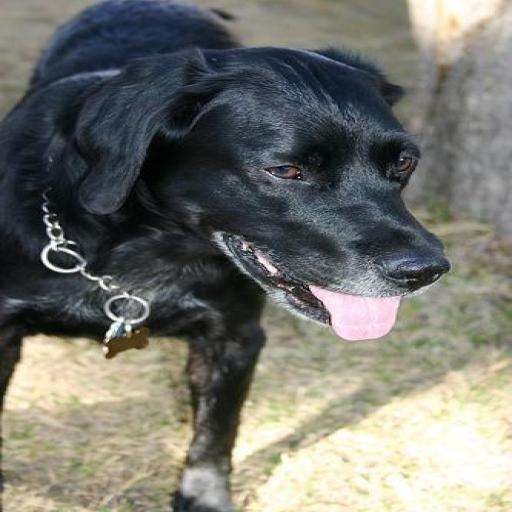dog_face: (114, 44, 436, 320)
